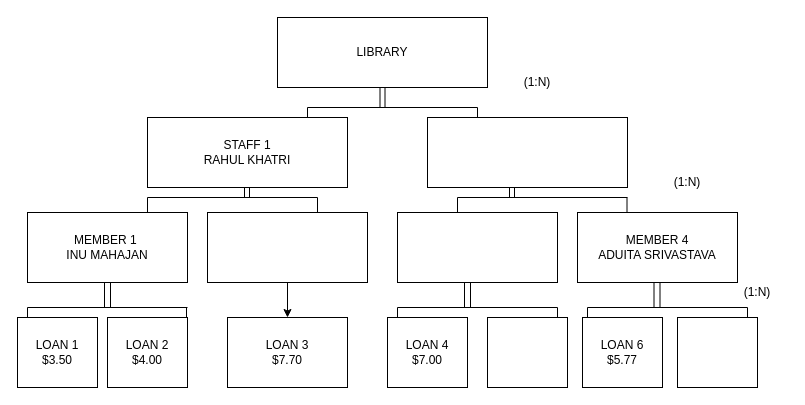
Some shapes in this 805 by 405 pixel diagram are drawn without their labels. Here are the shapes that lost their labels. From the top down, the centre of each, then its label:
point 527,152: STAFF 2 MALLAIKA OBEROI
point 287,247: MEMBER 2 INAAYA SHARMA
point 477,247: MEMBER 3 AVIRAL DIKSHIT
point 527,352: LOAN 5 $5.00
point 717,352: LOAN 7 $7.55
